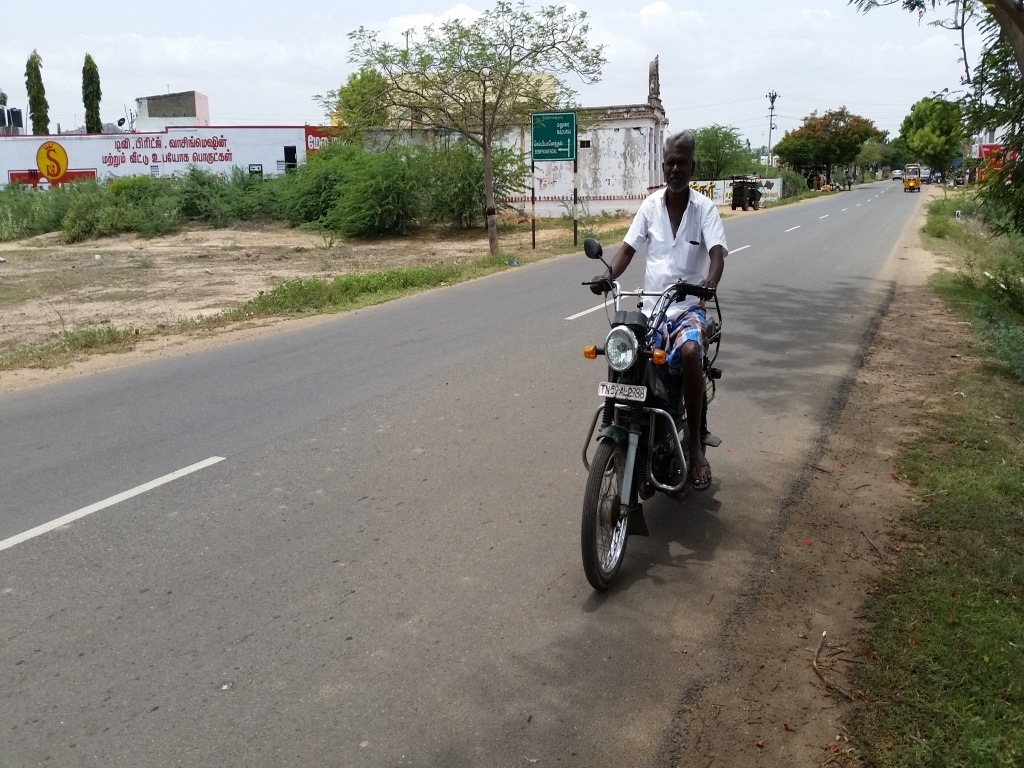biker: (542, 82, 781, 612)
nohelmet: (651, 120, 712, 220)
